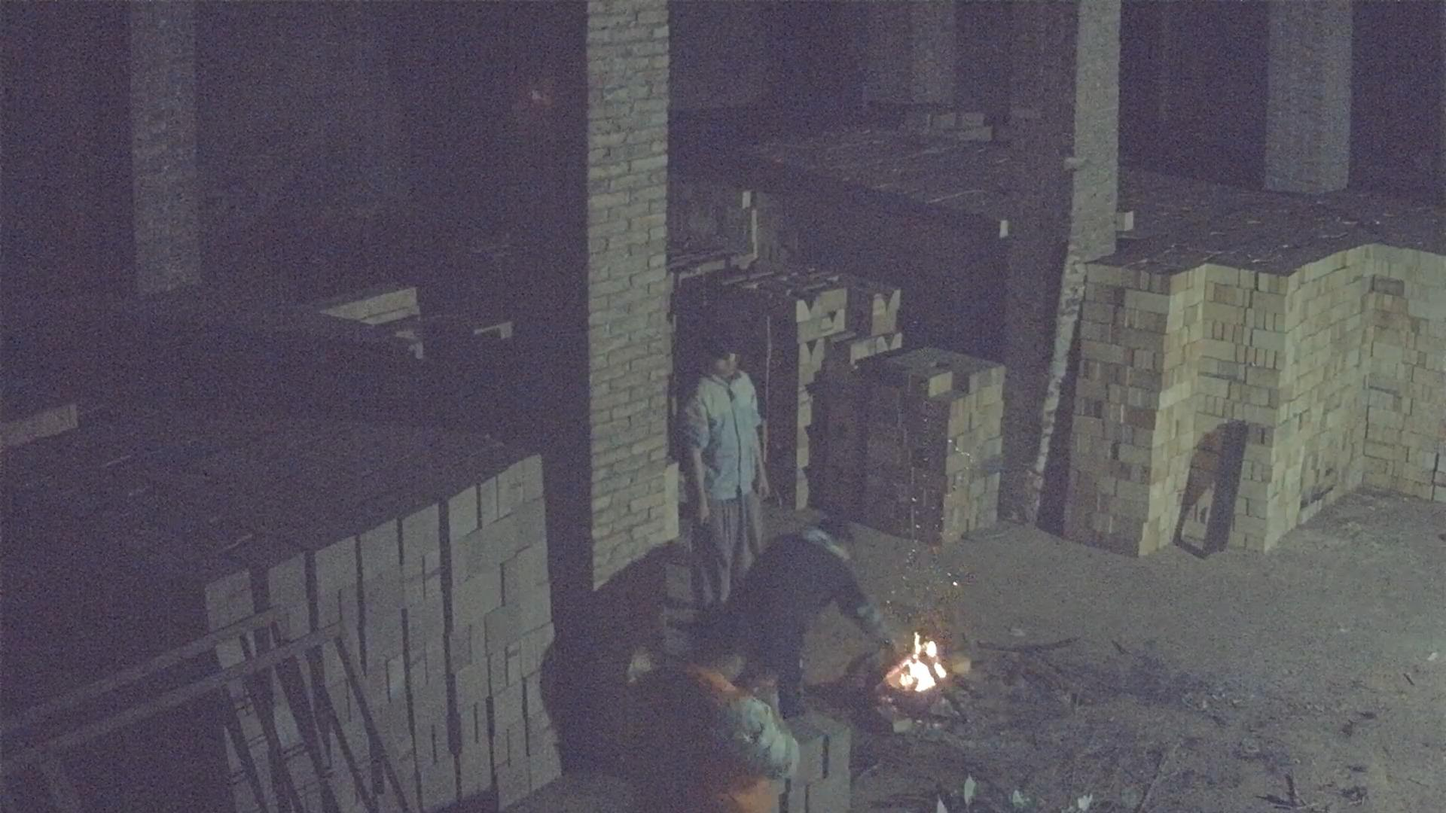fire: (887, 633, 947, 693)
